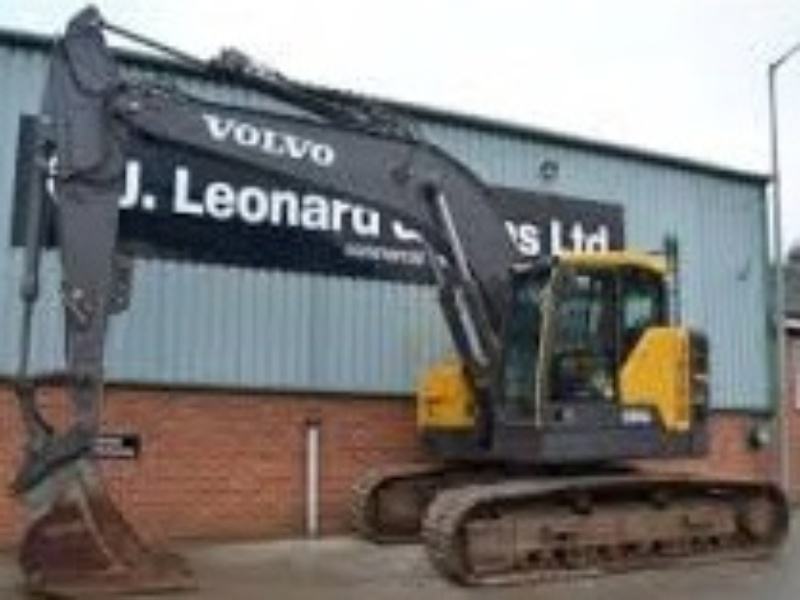wajueji: (352, 180, 795, 591)
